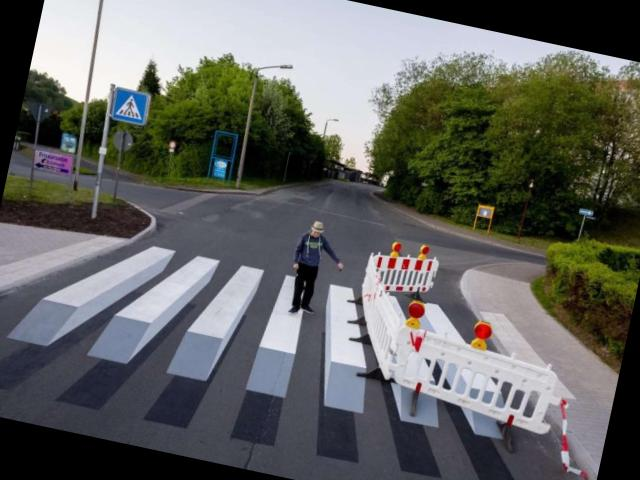crosswalk-sign: (110, 87, 152, 128)
